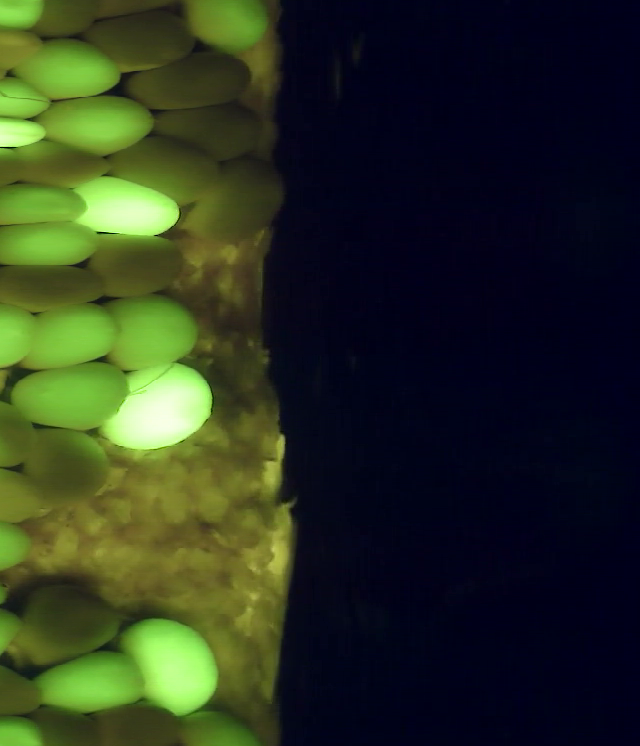fluorescent: (93, 354, 225, 460), (114, 609, 228, 720), (3, 354, 135, 436), (15, 646, 152, 717), (68, 169, 190, 245), (96, 290, 205, 375), (13, 301, 129, 375), (11, 32, 125, 106), (37, 91, 164, 155), (0, 219, 107, 273), (179, 1, 272, 61), (0, 177, 95, 229), (170, 704, 271, 746), (0, 297, 45, 373), (0, 74, 60, 127), (0, 511, 42, 581), (0, 110, 56, 155), (0, 603, 37, 669), (0, 1, 53, 31), (0, 714, 47, 746)
nonfluorescent: (1, 575, 128, 676), (180, 153, 290, 246), (104, 132, 226, 208), (78, 7, 205, 77), (124, 48, 259, 113), (19, 421, 116, 510), (147, 99, 267, 168), (84, 229, 189, 302), (0, 259, 109, 322), (9, 137, 115, 192), (85, 698, 199, 746), (0, 658, 55, 724), (0, 394, 44, 471), (30, 704, 107, 746), (26, 1, 101, 42), (0, 462, 44, 526), (0, 18, 46, 73)
